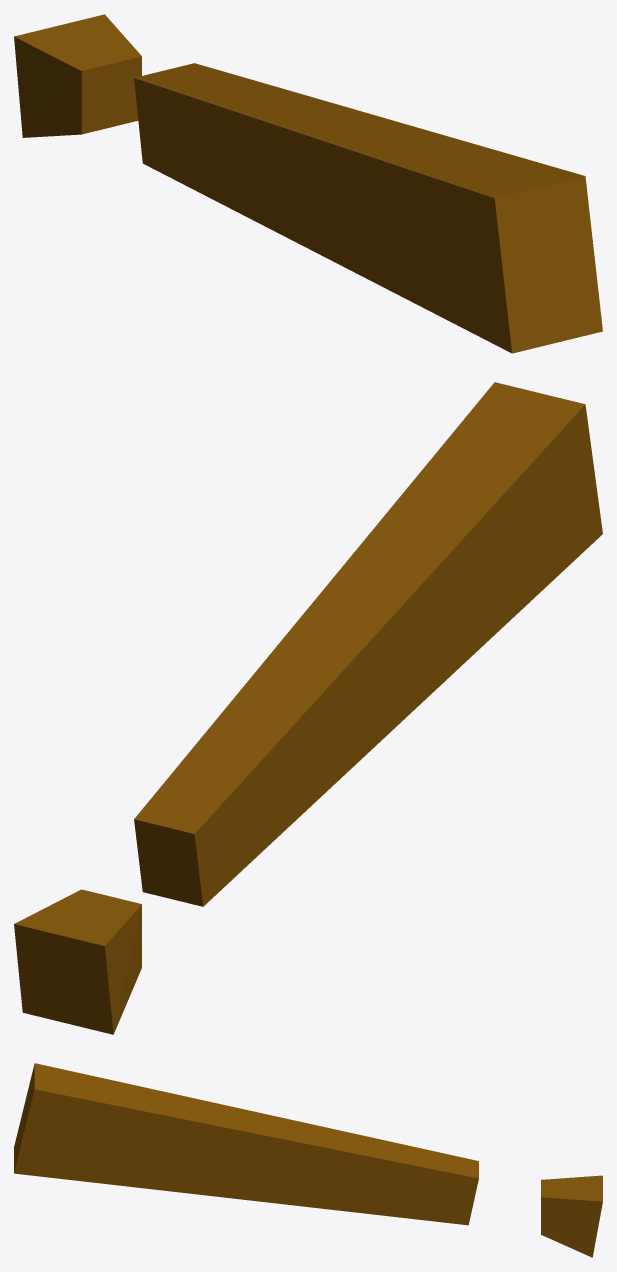
File: model_557_obj_wear.obj
3 views of the same model, one above another, from view 1: azimuth 30°, elevation 25°; view 2: azimuth 150°, elevation 25°; view 3: azimuth 270°, elevation 25° (orthographic). The views are drawn at different scales.
Parts seen in each view (by area): view 1: 557; view 2: 557; view 3: 557.
Part boxes in pixels (x1,y1,x2,y2): 557: [14, 14, 602, 353]; 557: [14, 382, 602, 1034]; 557: [14, 1063, 602, 1257].
Bounding box in the file's own units: 6 × 18 × 57.
